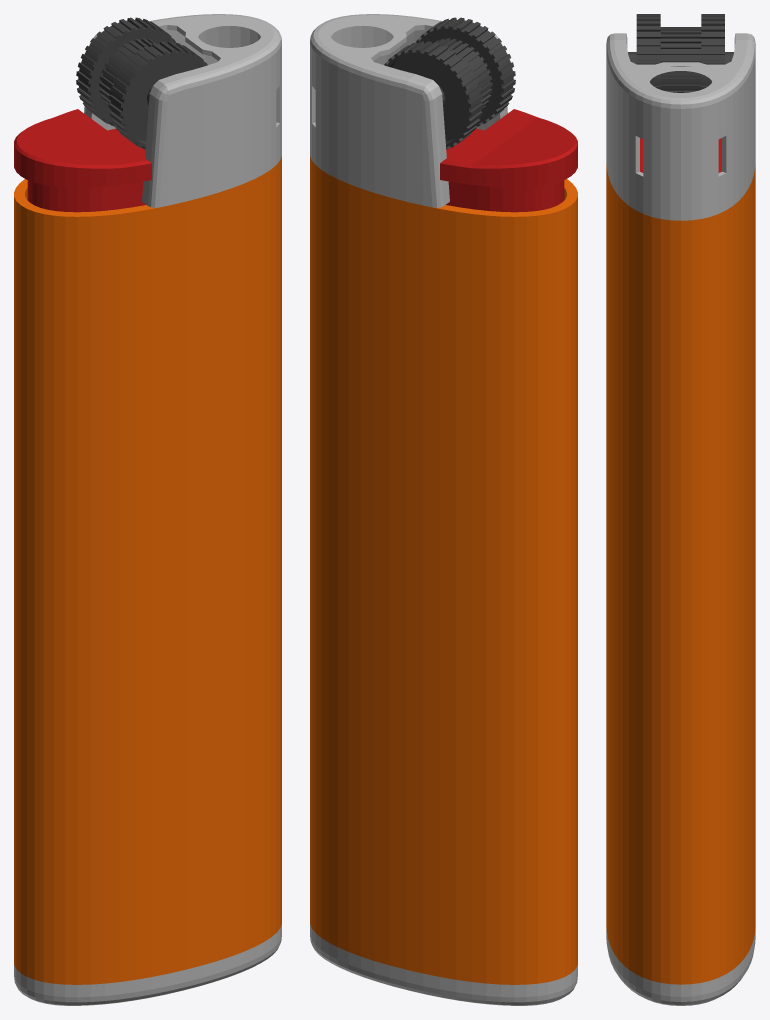
File: Lighter.obj
The picture shows the model from 3 angles, left to right: view 1: azimuth 30°, elevation 25°; view 2: azimuth 150°, elevation 25°; view 3: azimuth 270°, elevation 25°; orthographic projection.
Parts seen in each view (by area): view 1: lighter_tank, lighter_cap, lighter_lever, lighter_wheel, lighter_tank_cap; view 2: lighter_tank, lighter_cap, lighter_lever, lighter_wheel, lighter_tank_cap; view 3: lighter_tank, lighter_cap, lighter_wheel, lighter_tank_cap.
Boxes of the visible parts, left/top/right/bottom form: lighter_tank: left=14, top=156, right=281, bottom=984; lighter_cap: left=84, top=14, right=281, bottom=207; lighter_lever: left=14, top=109, right=151, bottom=212; lighter_wheel: left=76, top=17, right=207, bottom=149; lighter_tank_cap: left=14, top=924, right=281, bottom=1005; lighter_tank: left=310, top=156, right=577, bottom=984; lighter_cap: left=310, top=14, right=507, bottom=207; lighter_lever: left=440, top=109, right=577, bottom=212; lighter_wheel: left=384, top=17, right=515, bottom=149; lighter_tank_cap: left=310, top=924, right=577, bottom=1005; lighter_tank: left=606, top=164, right=755, bottom=984; lighter_cap: left=606, top=33, right=755, bottom=220; lighter_wheel: left=628, top=14, right=733, bottom=92; lighter_tank_cap: left=606, top=928, right=755, bottom=1005.
Size of the model in its own units: 58.98 by 206 by 30.18.
